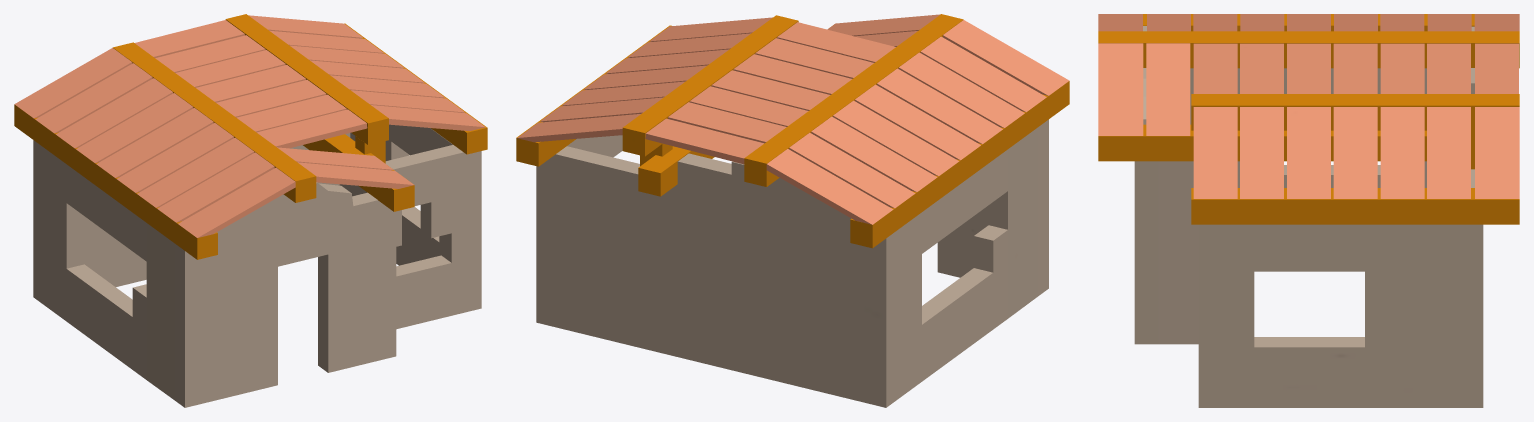
File: Tipo Casa01 (Modelo).fbx
3 views of the same model, side by side, from view 1: azimuth 30°, elevation 25°; view 2: azimuth 150°, elevation 25°; view 3: azimuth 270°, elevation 25° (orthographic). The views are drawn at different scales.
Parts seen in each view (by area): view 1: Model_Cada_01; view 2: Model_Cada_01; view 3: Model_Cada_01.
Part boxes in pixels (<box>): Model_Cada_01: <box>14,14,487,407</box>; Model_Cada_01: <box>516,14,1069,407</box>; Model_Cada_01: <box>1098,14,1519,407</box>.
Size of the model in its own units: 2.19 by 1.37 by 2.1.
